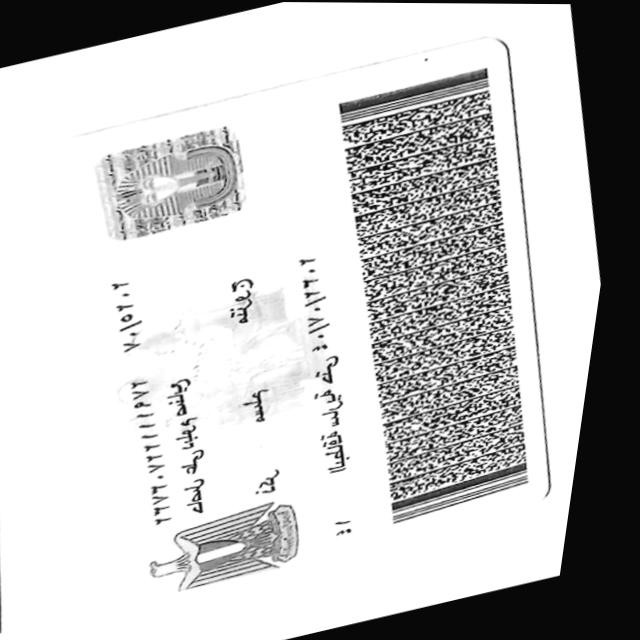id_card: (2, 23, 637, 621)
